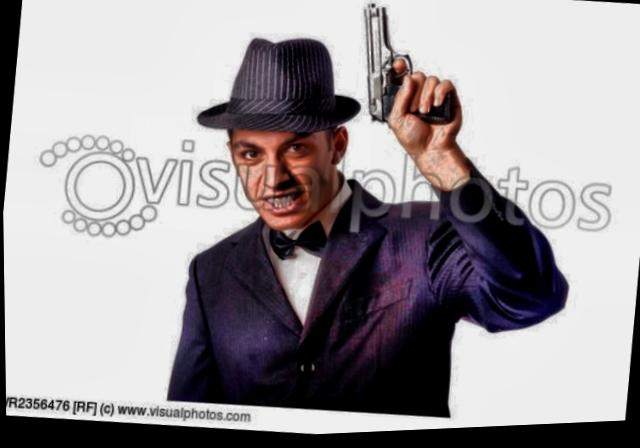pistol: (350, 0, 462, 137)
